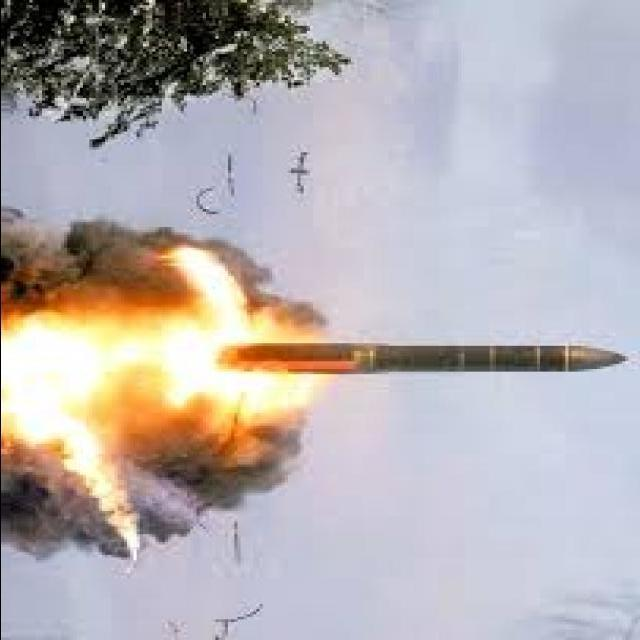missile: (219, 335, 629, 381)
